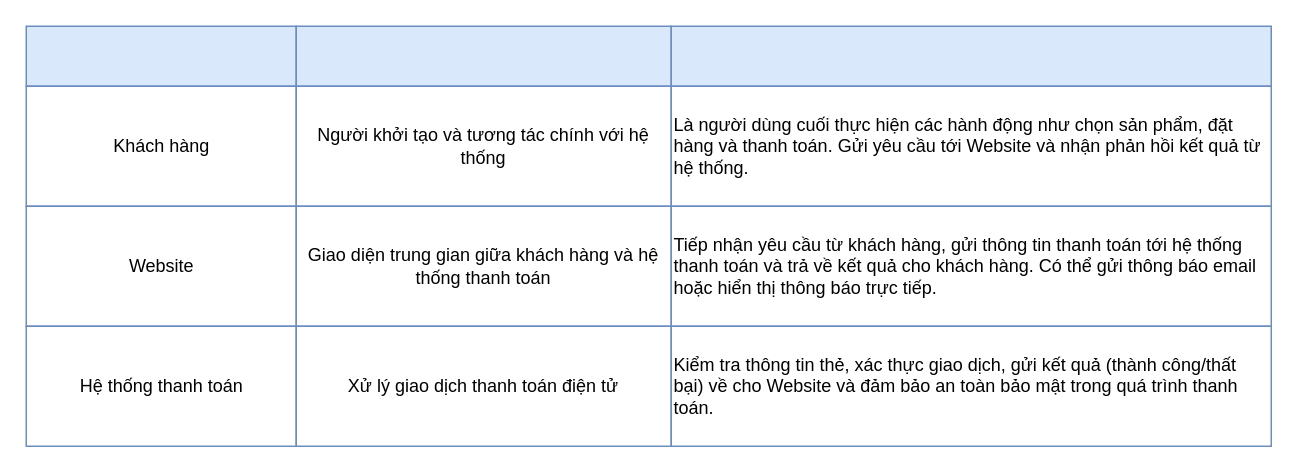
Some shapes in this 1298 by 473 pixel diagram are drawn without their labels. Each missing label, with the box of its shape:
Mô tả chi tiết: (670, 25, 1271, 86)
Thành phần: (25, 25, 296, 86)
Vai trò: (295, 25, 671, 86)
